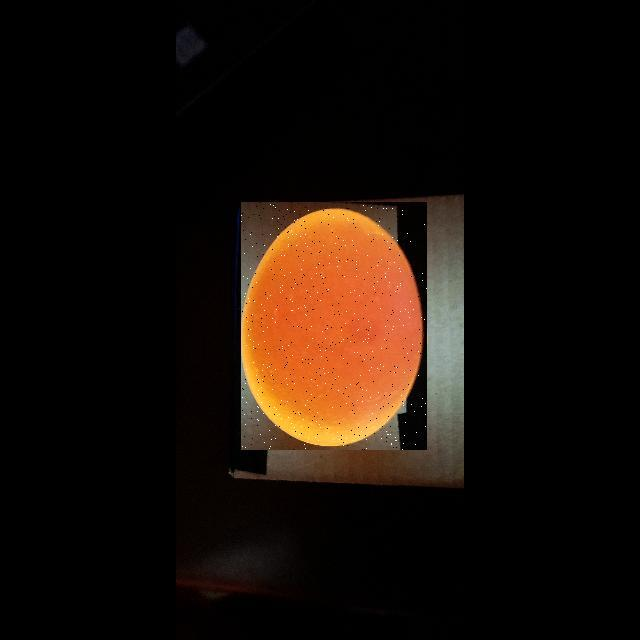Fertile: (241, 202, 427, 450)
